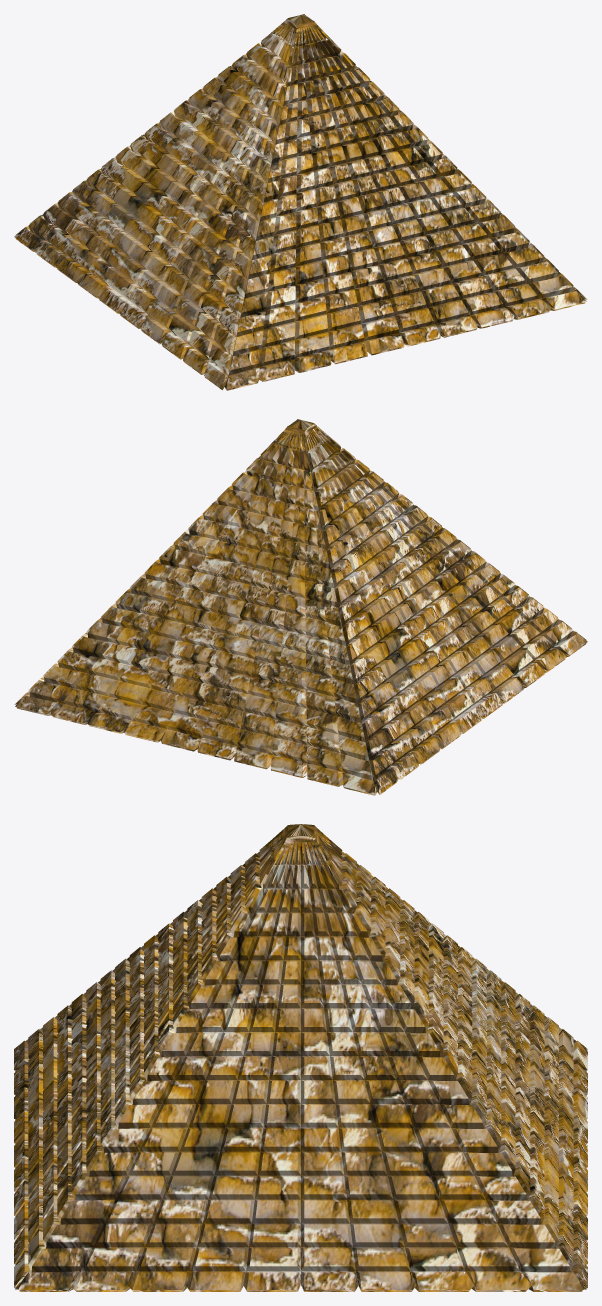
File: Piramid.FBX
3 renders of one model, top to bottom at view 1: azimuth 30°, elevation 25°; view 2: azimuth 150°, elevation 25°; view 3: azimuth 270°, elevation 25°, orthographic. The views are drawn at different scales.
Visible parts, largest first — view 1: Pyramid001; view 2: Pyramid001; view 3: Pyramid001.
Part boxes in pixels (x1,y1,x2,y2): Pyramid001: (14,14,587,390); Pyramid001: (14,419,587,795); Pyramid001: (14,824,587,1291).
Bounding box in the file's own units: 39.74 × 26.52 × 39.74.
